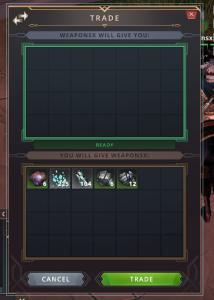birch log: (71, 168, 93, 190)
ethereal dust: (49, 167, 71, 189)
iron ore: (26, 166, 48, 189)
silver ore: (94, 167, 116, 189)
tin ore: (116, 168, 139, 188)
